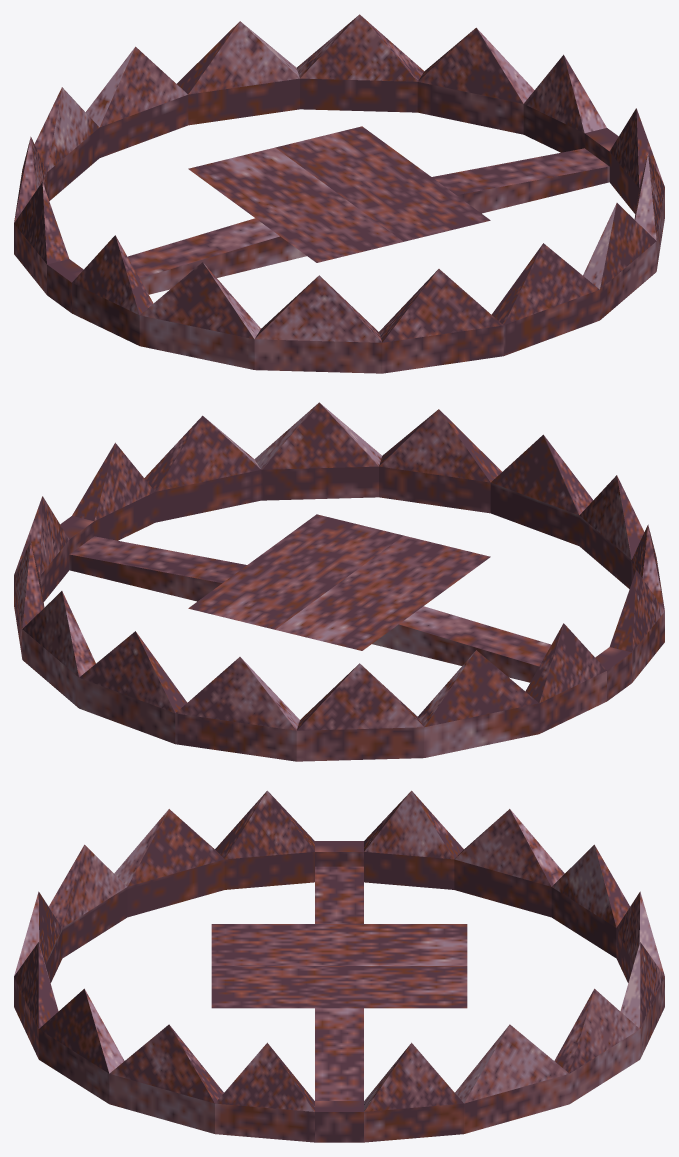
File: trap_1.fbx
3 renders of one model, top to bottom at view 1: azimuth 30°, elevation 25°; view 2: azimuth 150°, elevation 25°; view 3: azimuth 270°, elevation 25°, orthographic.
Visible parts, largest first — view 1: Left, Right, Static; view 2: Right, Left, Static; view 3: Left, Right, Static.
Boxes of the visible parts, left/top/right/bottom form: Left: left=59, top=108, right=664, bottom=373; Right: left=14, top=14, right=618, bottom=303; Static: left=128, top=126, right=609, bottom=294; Right: left=14, top=496, right=619, bottom=761; Left: left=60, top=402, right=664, bottom=691; Static: left=69, top=514, right=550, bottom=682; Left: left=14, top=790, right=339, bottom=1142; Right: left=339, top=790, right=664, bottom=1142; Static: left=211, top=866, right=467, bottom=1100.
Size of the model in its own units: 99.15 by 15.45 by 101.
